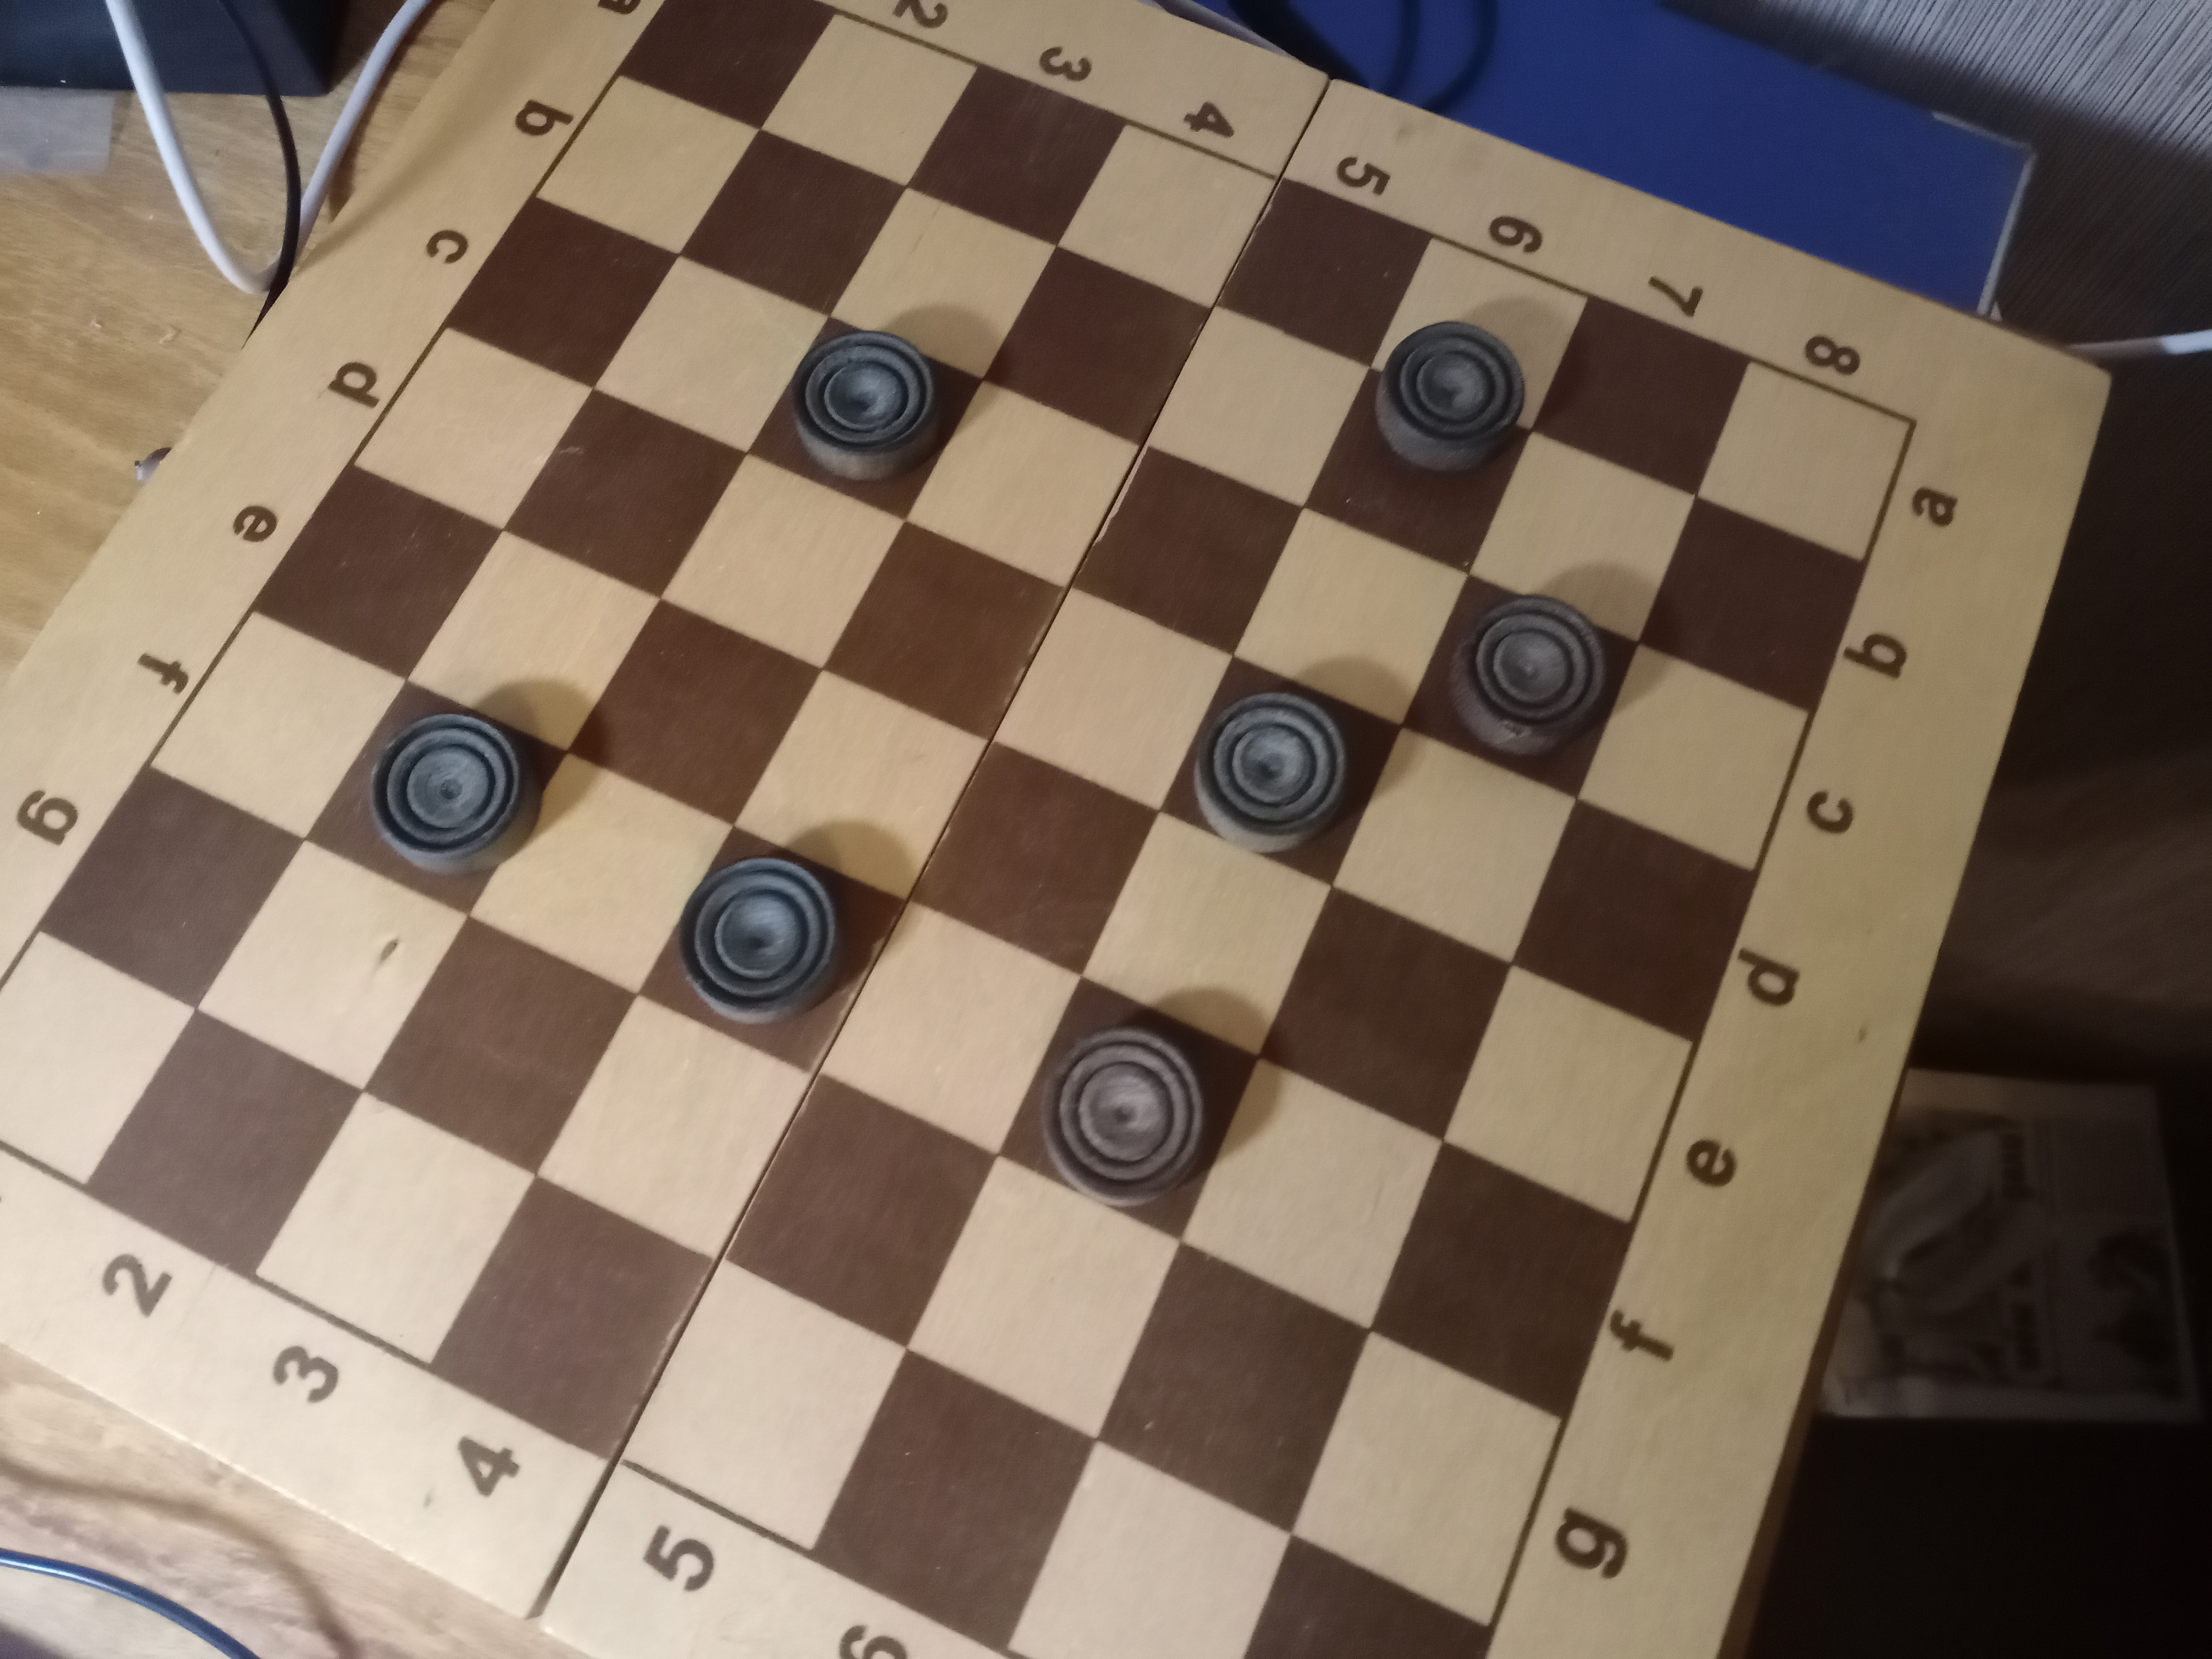Black_Draught: (998, 976, 1259, 1243), (636, 826, 909, 1072), (303, 680, 568, 918), (1305, 322, 1533, 575), (1158, 657, 1402, 887), (1404, 575, 1641, 798), (747, 317, 984, 521)
